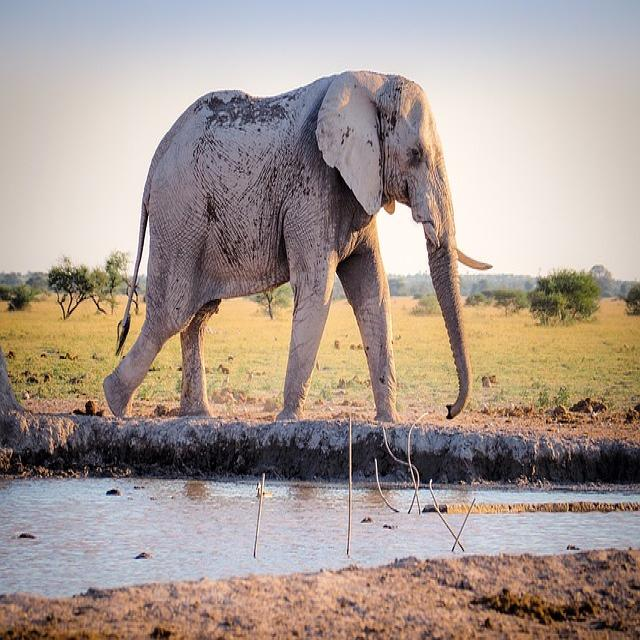elephant: (104, 71, 484, 422)
